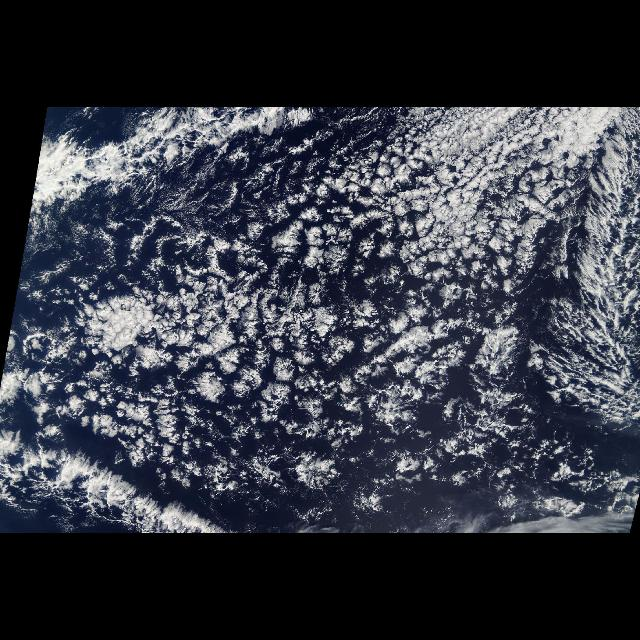Fish: (546, 157, 636, 431), (2, 436, 218, 530), (38, 108, 336, 174)
Flower: (24, 162, 576, 528)
